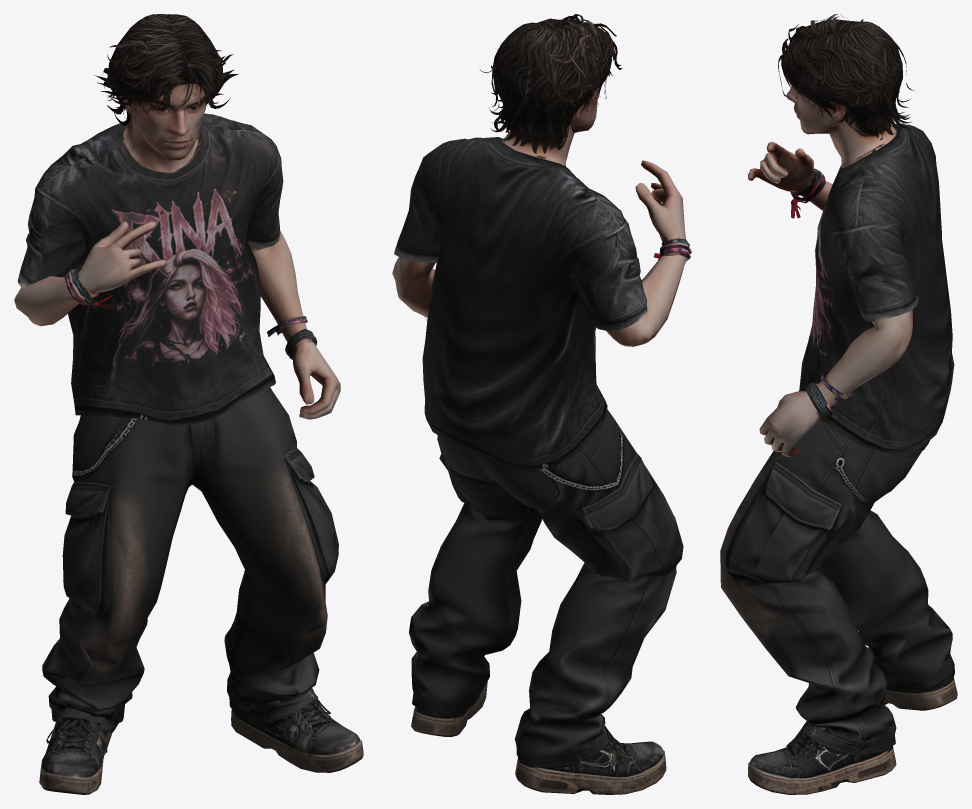
The model's file is fan_01_static_pose_1k.glb.
3 views of the same model, side by side, from view 1: azimuth 30°, elevation 25°; view 2: azimuth 150°, elevation 25°; view 3: azimuth 270°, elevation 25° (orthographic). The views are drawn at different scales.
Visible parts, largest first — view 1: fan_01_baked_pose; view 2: fan_01_baked_pose; view 3: fan_01_baked_pose.
Boxes of the visible parts, x1,y1,x2,y2 form: fan_01_baked_pose: (14,14,363,794); fan_01_baked_pose: (392,14,691,794); fan_01_baked_pose: (720,14,957,794).
Bounding box in the file's own units: 0.3682 × 0.9316 × 0.2836.
Materials: 1 (1 with a texture image).
